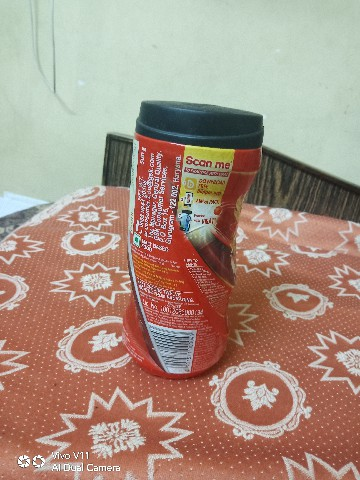boost big: (110, 83, 268, 404)
